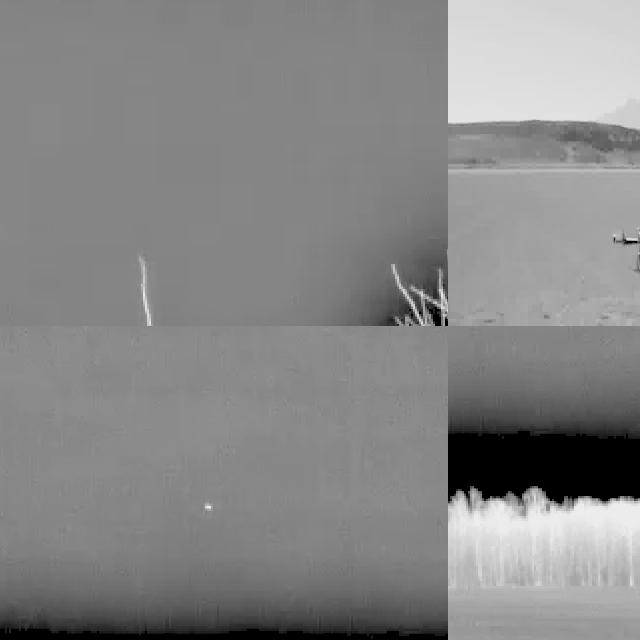1: (188, 491, 222, 529)
drone: (609, 224, 640, 276)
